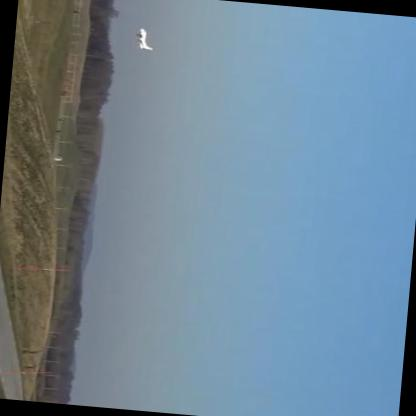plane: (135, 27, 155, 51)
